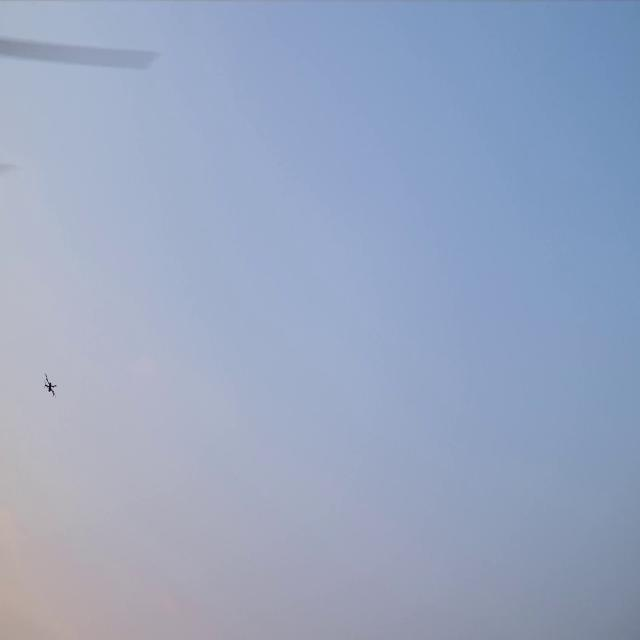UAV: (45, 376, 55, 396)
